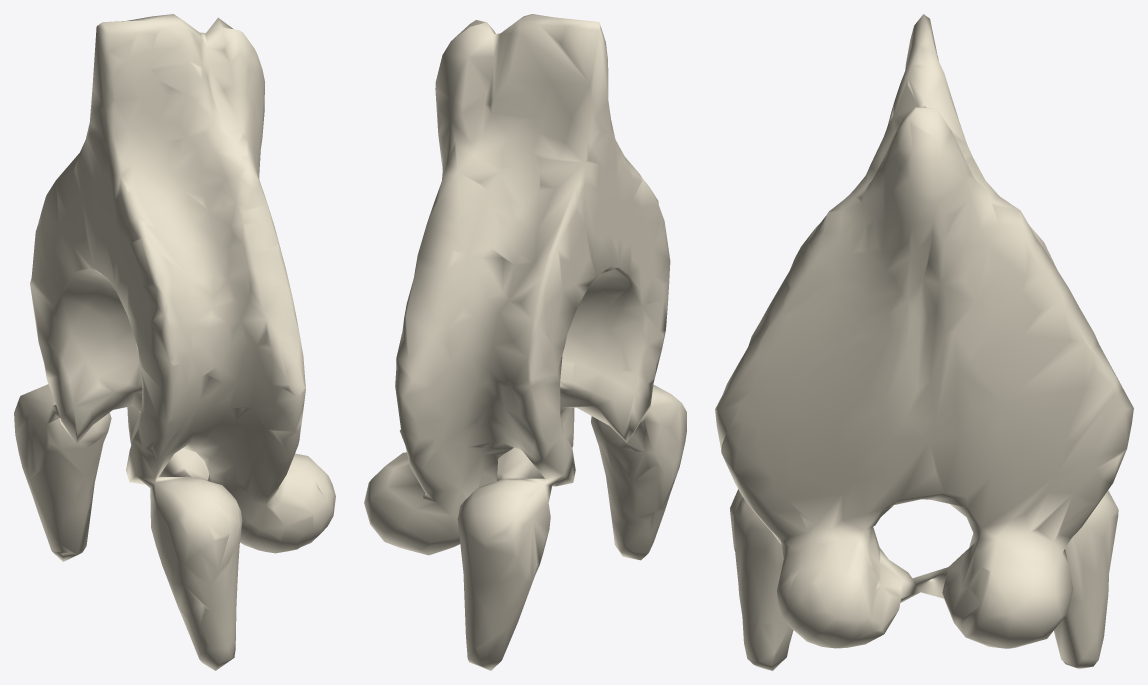
File: occipital.glb
3 views of the same model, side by side, from view 1: azimuth 30°, elevation 25°; view 2: azimuth 150°, elevation 25°; view 3: azimuth 270°, elevation 25° (orthographic). The views are drawn at different scales.
Parts seen in each view (by area): view 1: geometry_0; view 2: geometry_0; view 3: geometry_0.
Boxes of the visible parts, x1=… form: geometry_0: x1=14, y1=14, x2=335, y2=670; geometry_0: x1=364, y1=14, x2=686, y2=670; geometry_0: x1=715, y1=14, x2=1133, y2=670.
Size of the model in its own units: 0.1115 by 0.3351 by 0.1996.
